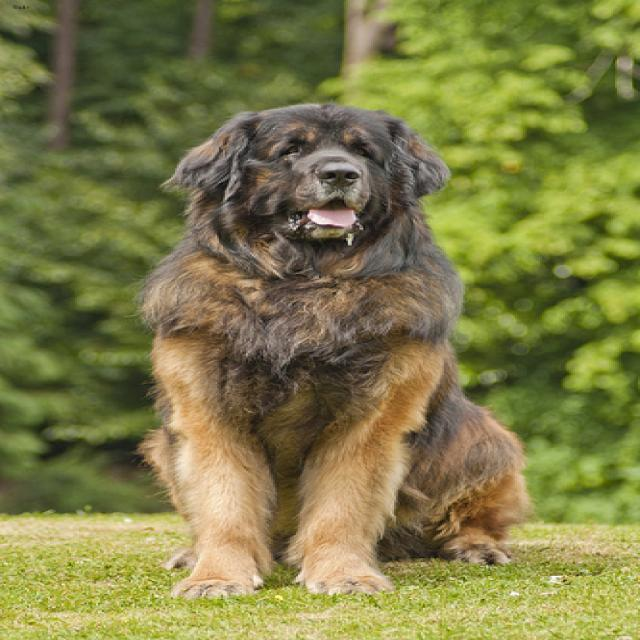dog-leonberger: (119, 93, 542, 609)
